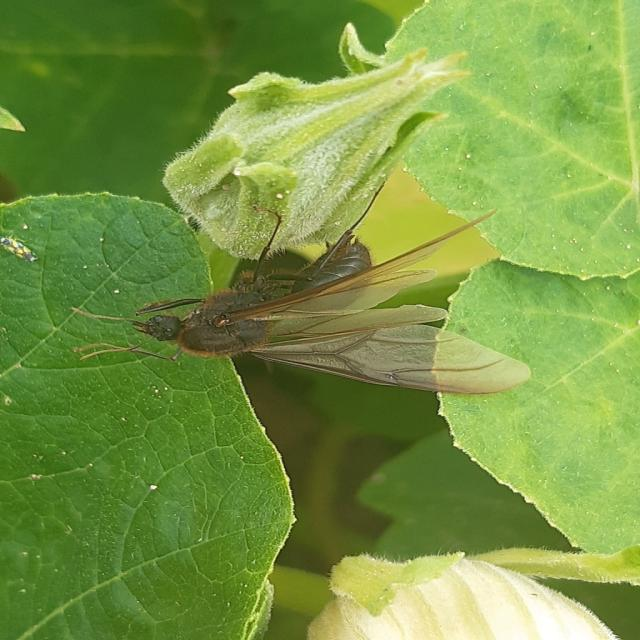Alive-Male-Alate: (71, 179, 531, 395)
